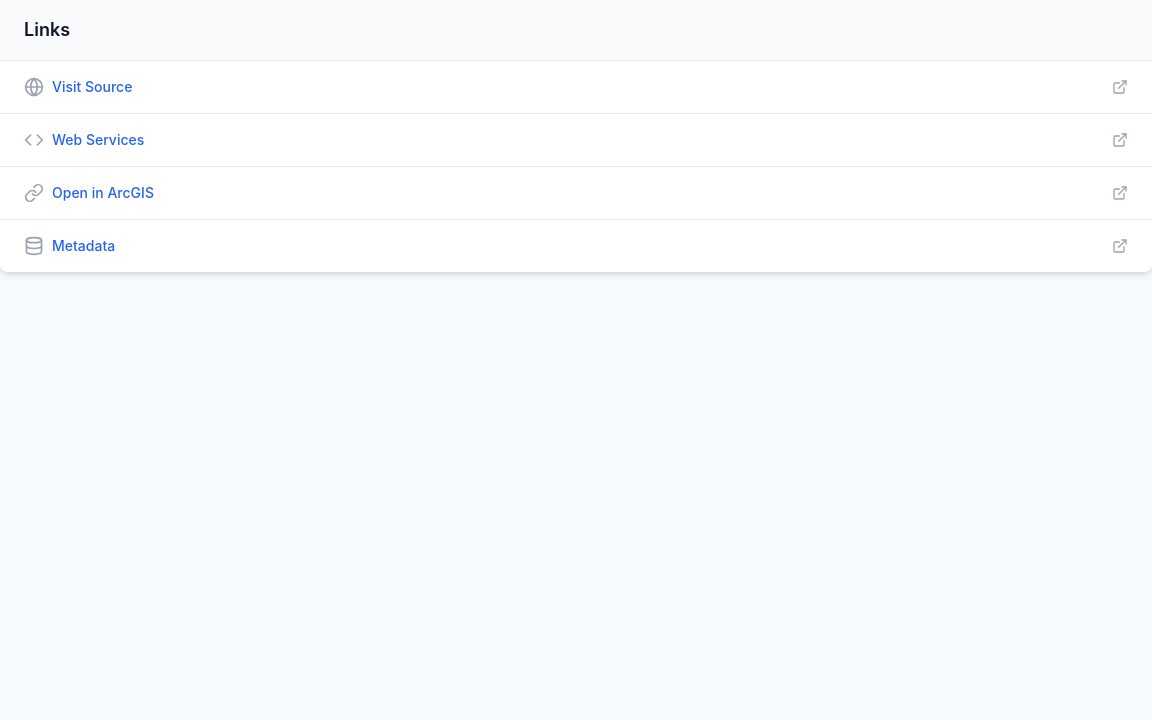
Scenario: LinksTable › closes lightbox when close button is clicked
Click the button "Web Services": (98,140) [24, 130, 1128, 150]
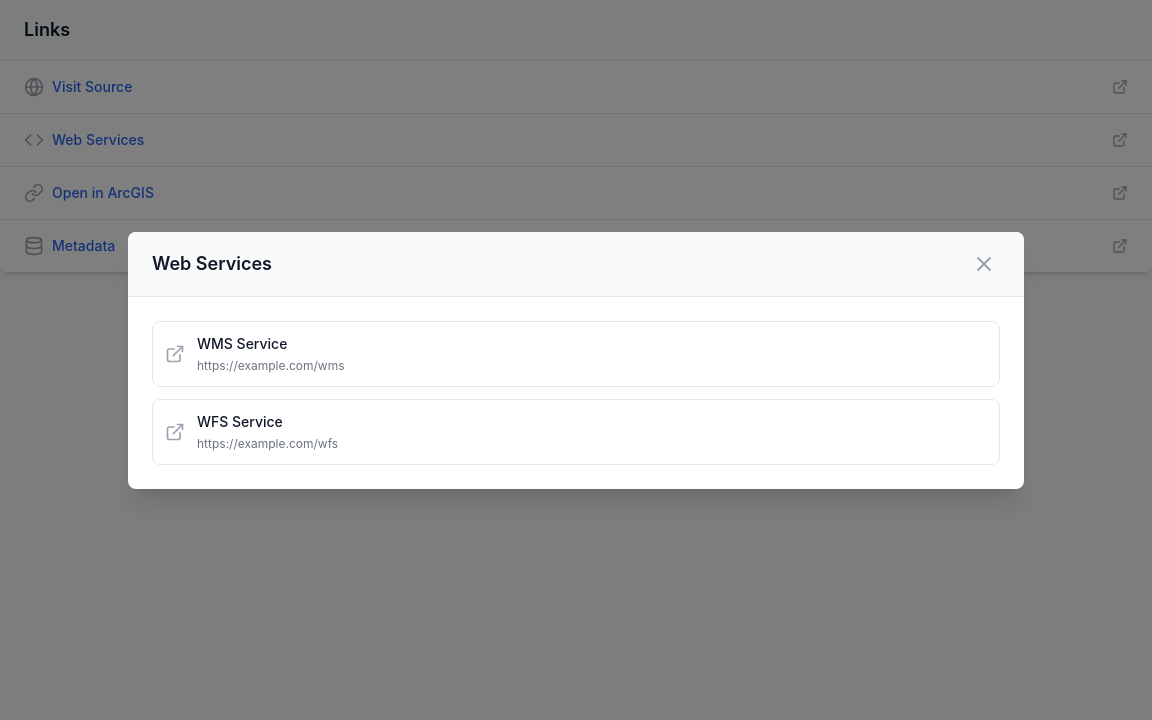
Result: the text "WMS Service" is shown at [197, 334, 287, 352]
Click the button named "Close": (984,264) [968, 248, 1000, 280]
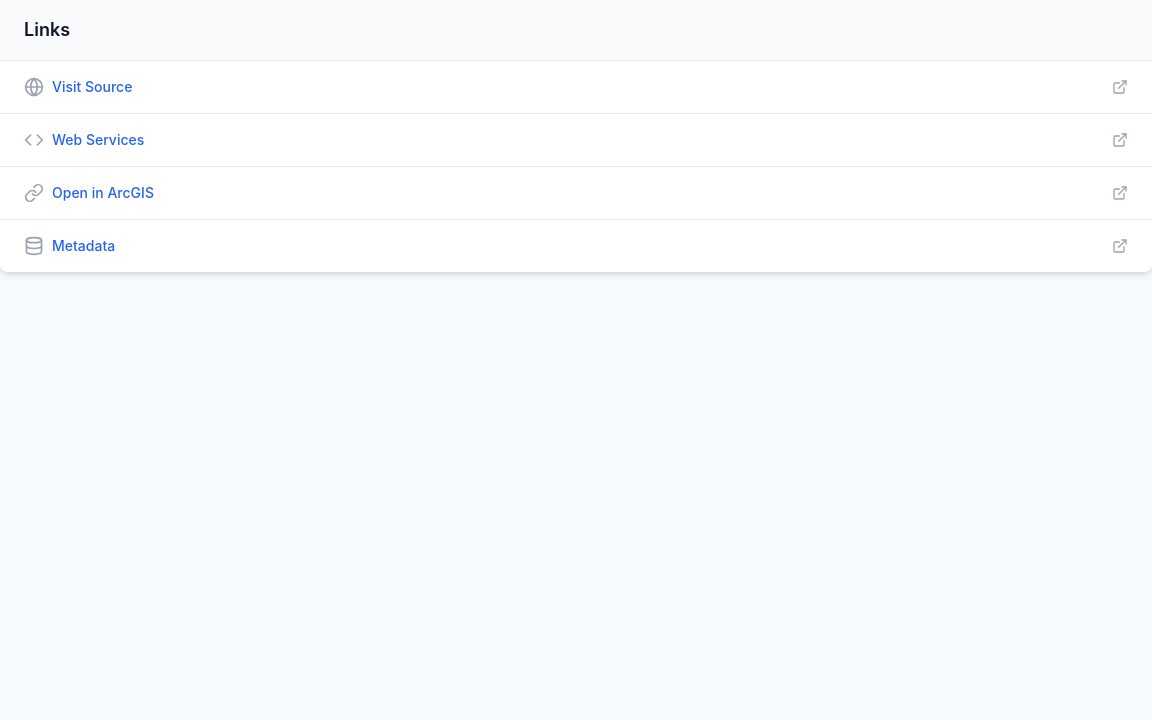
Result: the link "WMS Service" is gone
